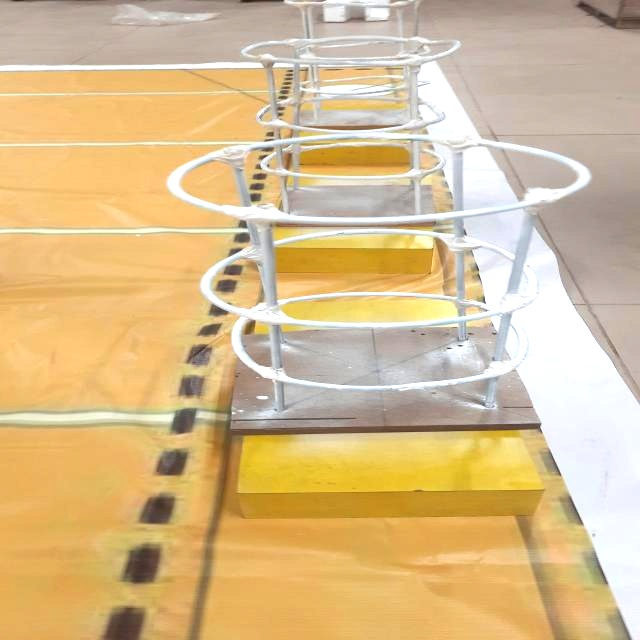silo: (177, 132, 578, 432), (237, 32, 461, 235)
